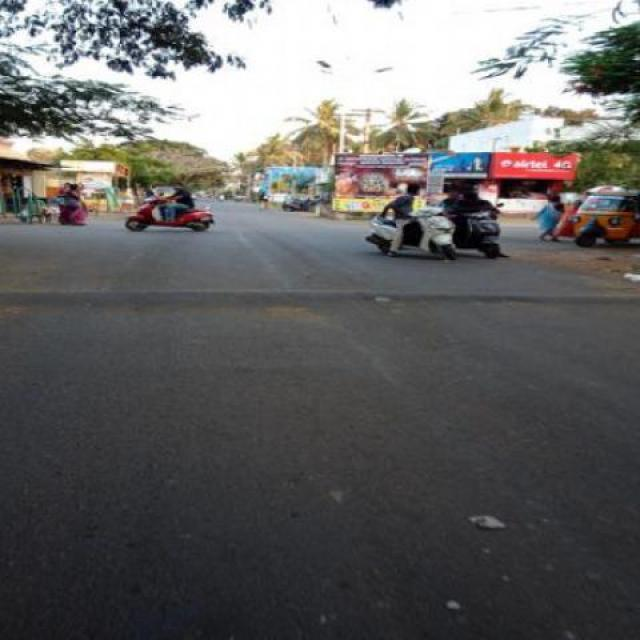Unmarked Bump: (0, 288, 639, 312)
